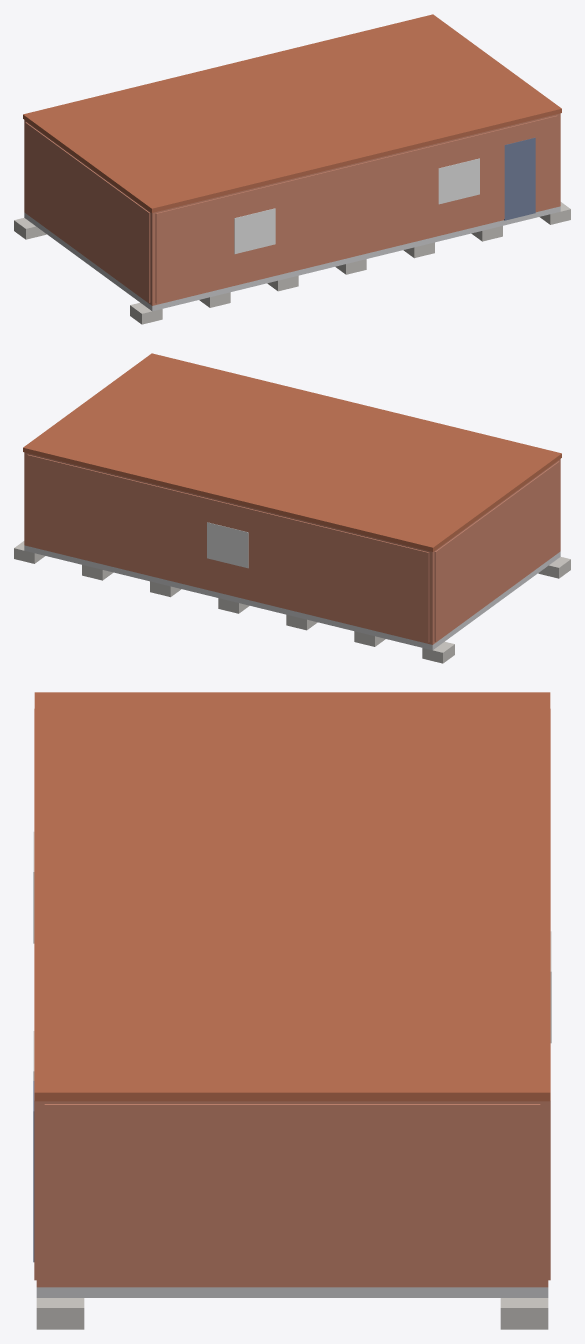
Rendered from Studio-40-Base-BrickRed-LOD0.glb.
The picture shows the model from 3 angles, top to bottom: view 1: azimuth 30°, elevation 25°; view 2: azimuth 150°, elevation 25°; view 3: azimuth 270°, elevation 25°; orthographic projection. The views are drawn at different scales.
Visible parts, largest first — view 1: RoofMain, ExteriorPanelsStandard, BaseFrame, WindowsStandard, ExteriorShell, FoundationBlocks, EntryDoor; view 2: RoofMain, ExteriorPanelsStandard, BaseFrame, ExteriorShell, FoundationBlocks, WindowsStandard; view 3: RoofMain, ExteriorPanelsStandard, ExteriorShell, BaseFrame, FoundationBlocks.
Part boxes in pixels (box(x1,y1,x2,y2)): RoofMain: box(23, 14, 561, 212); ExteriorPanelsStandard: box(25, 115, 557, 303); BaseFrame: box(24, 206, 560, 311); WindowsStandard: box(234, 158, 479, 254); ExteriorShell: box(24, 113, 560, 305); FoundationBlocks: box(14, 202, 570, 324); EntryDoor: box(504, 137, 535, 220); RoofMain: box(23, 353, 561, 551); ExteriorPanelsStandard: box(27, 454, 559, 642); BaseFrame: box(24, 545, 560, 650); ExteriorShell: box(24, 452, 560, 644); FoundationBlocks: box(14, 541, 570, 663); WindowsStandard: box(207, 522, 248, 568); RoofMain: box(34, 692, 550, 1101); ExteriorPanelsStandard: box(34, 709, 550, 1284); ExteriorShell: box(36, 1101, 548, 1287); BaseFrame: box(36, 1287, 548, 1297); FoundationBlocks: box(36, 1298, 548, 1329).
Bounding box in the file's own units: 12.49 × 3.17 × 6.53.
